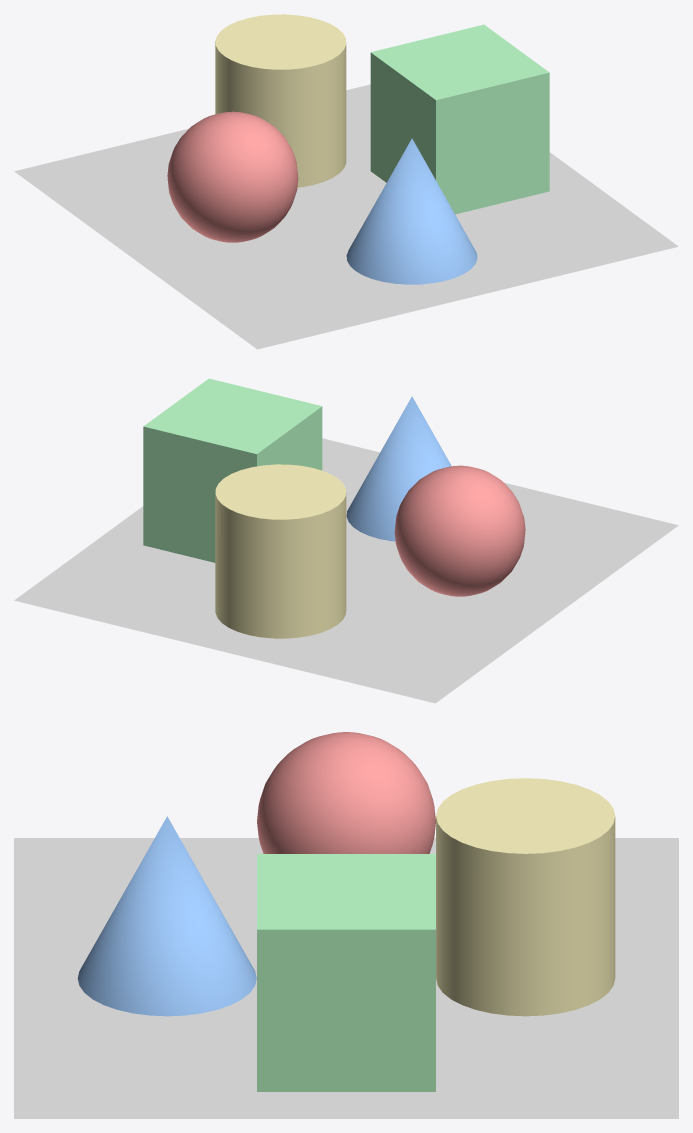
The model's file is reflect.gltf.
3 views of the same model, one above another, from view 1: azimuth 30°, elevation 25°; view 2: azimuth 150°, elevation 25°; view 3: azimuth 270°, elevation 25° (orthographic). The views are drawn at different scales.
Parts seen in each view (by area): view 1: Plane, Cube, Cylinder, Sphere, Cone; view 2: Plane, Cylinder, Cube, Sphere, Cone; view 3: Plane, Cube, Cylinder, Cone, Sphere.
Part boxes in pixels (x1=…): Plane: x1=14, y1=84, x2=678, y2=349; Cube: x1=370, y1=24, x2=549, y2=214; Cylinder: x1=215, y1=14, x2=346, y2=187; Sphere: x1=167, y1=111, x2=298, y2=242; Cone: x1=346, y1=138, x2=477, y2=284; Plane: x1=14, y1=438, x2=678, y2=703; Cylinder: x1=215, y1=464, x2=346, y2=638; Cube: x1=143, y1=378, x2=322, y2=562; Sphere: x1=394, y1=465, x2=525, y2=596; Cone: x1=346, y1=396, x2=451, y2=541; Plane: x1=14, y1=838, x2=678, y2=1118; Cube: x1=257, y1=854, x2=435, y2=1091; Cylinder: x1=436, y1=778, x2=615, y2=1016; Cone: x1=77, y1=816, x2=256, y2=1016; Sphere: x1=257, y1=732, x2=435, y2=853.
Size of the model in its own units: 7.42 by 2 by 7.42.
